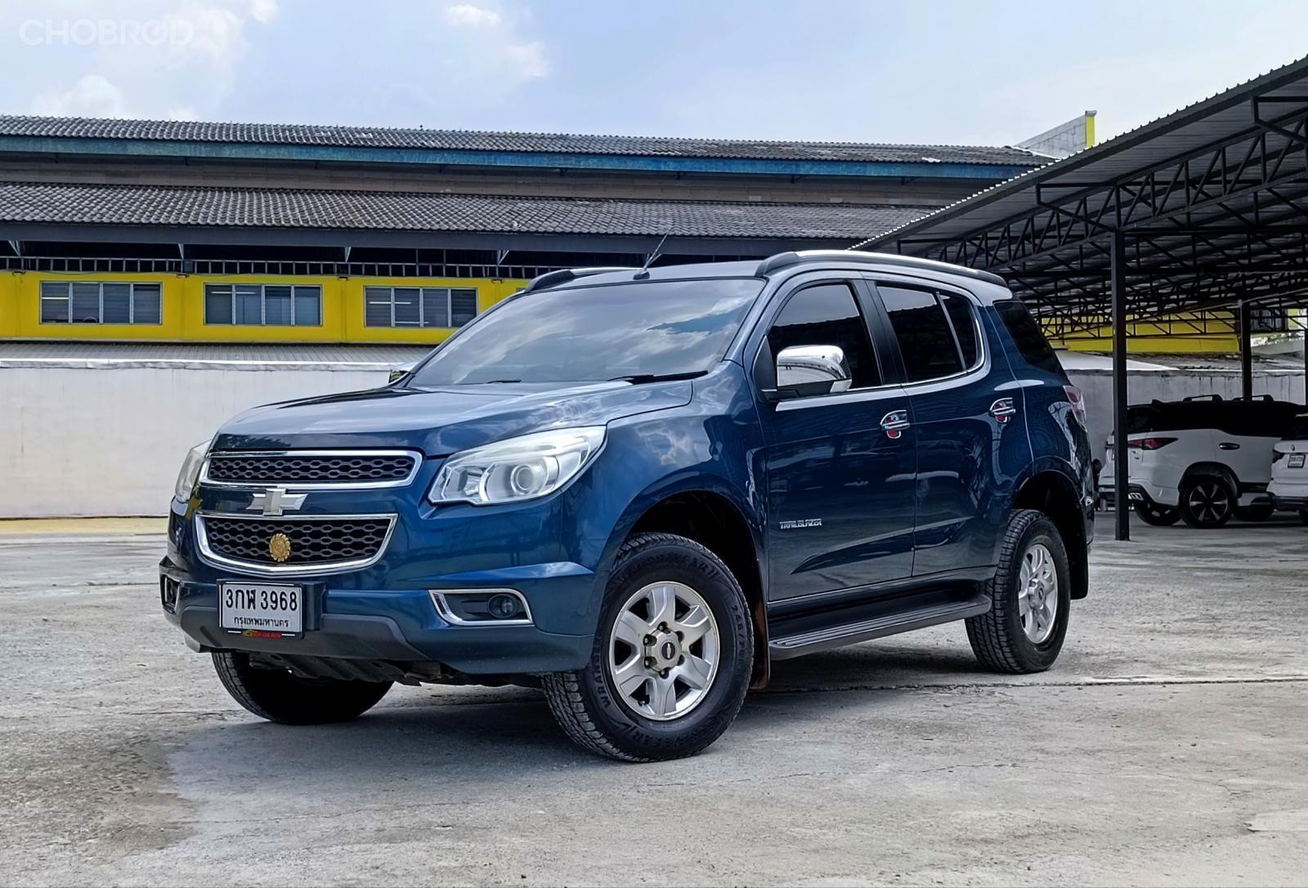license-plate: (216, 573, 306, 645)
